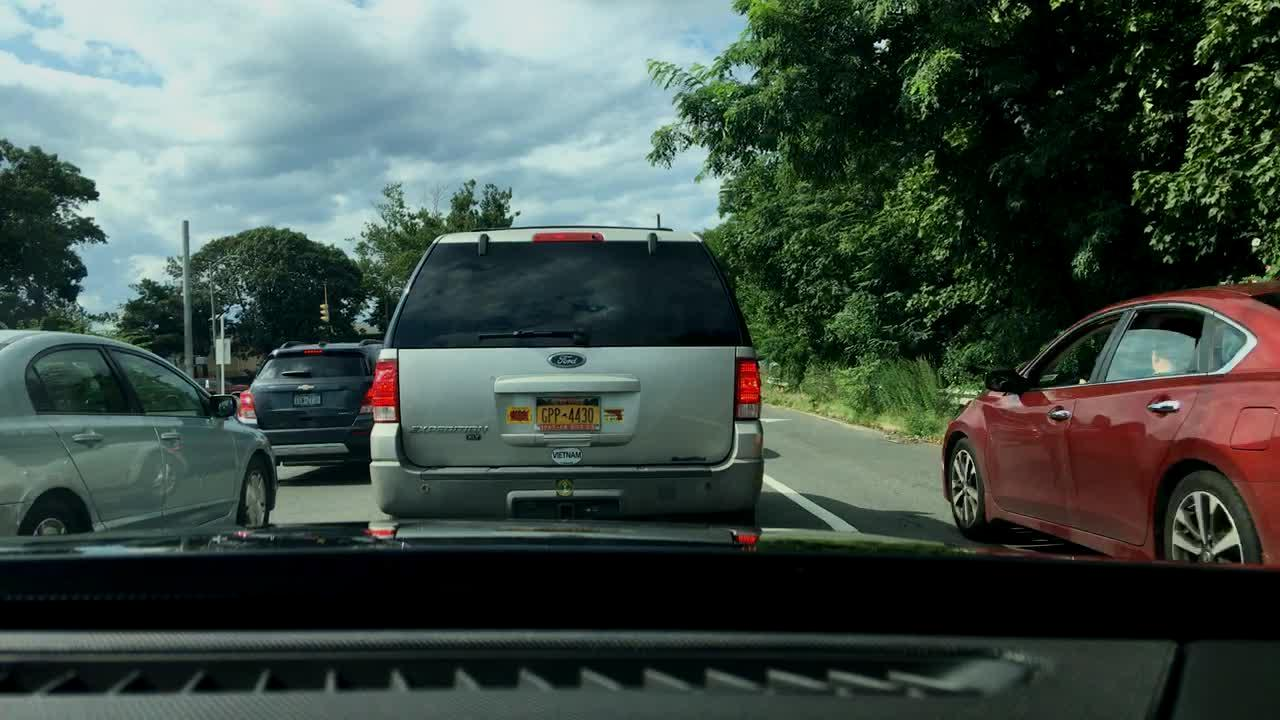chevrolet: (294, 382, 319, 395)
ford: (545, 346, 595, 374)
